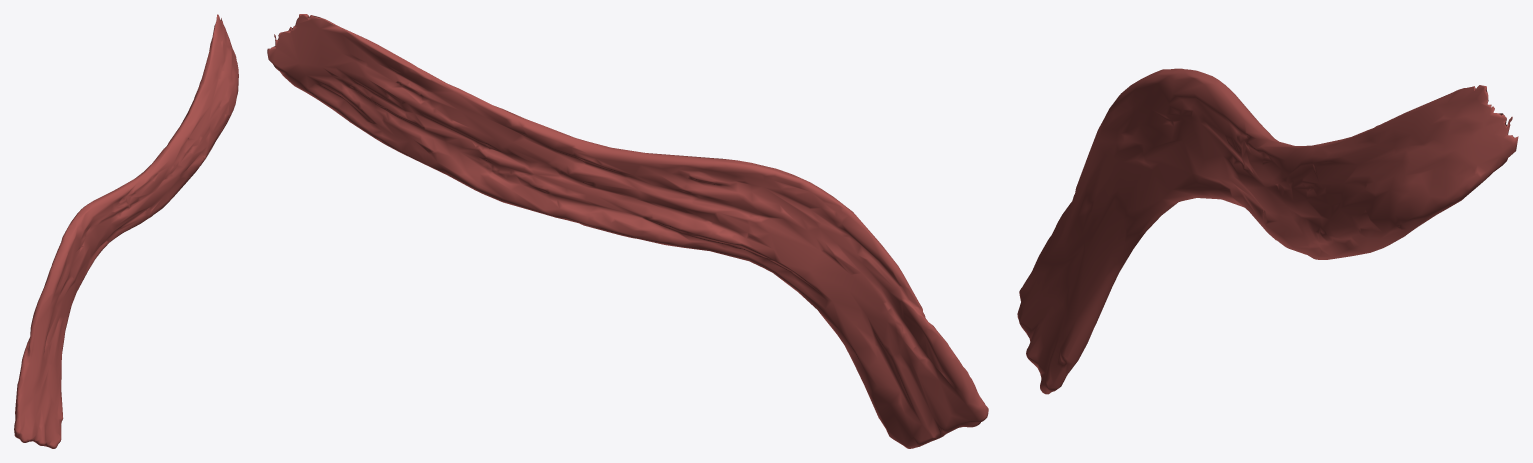
File: FMA46815.glb
3 views of the same model, side by side, from view 1: azimuth 30°, elevation 25°; view 2: azimuth 150°, elevation 25°; view 3: azimuth 270°, elevation 25° (orthographic). The views are drawn at different scales.
Parts seen in each view (by area): view 1: FMA46815; view 2: FMA46815; view 3: FMA46815.
Boxes of the visible parts, x1,y1,x2,y2 form: FMA46815: (14,14,238,448); FMA46815: (267,14,988,448); FMA46815: (1017,68,1518,394).
Size of the model in its own units: 0.0364 by 0.0301 by 0.0238.
